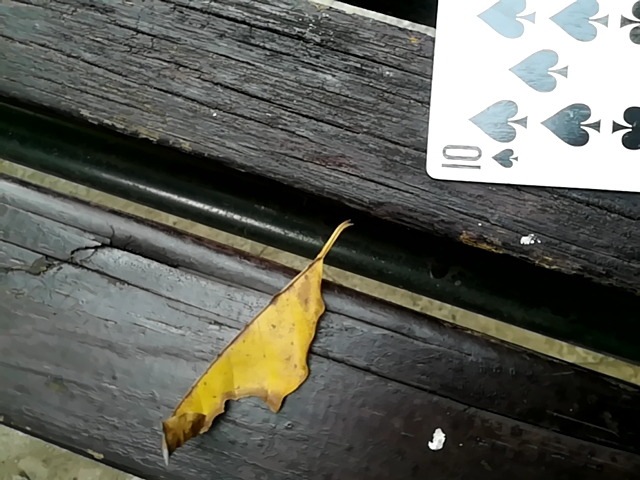ht 10: (418, 0, 639, 204)
